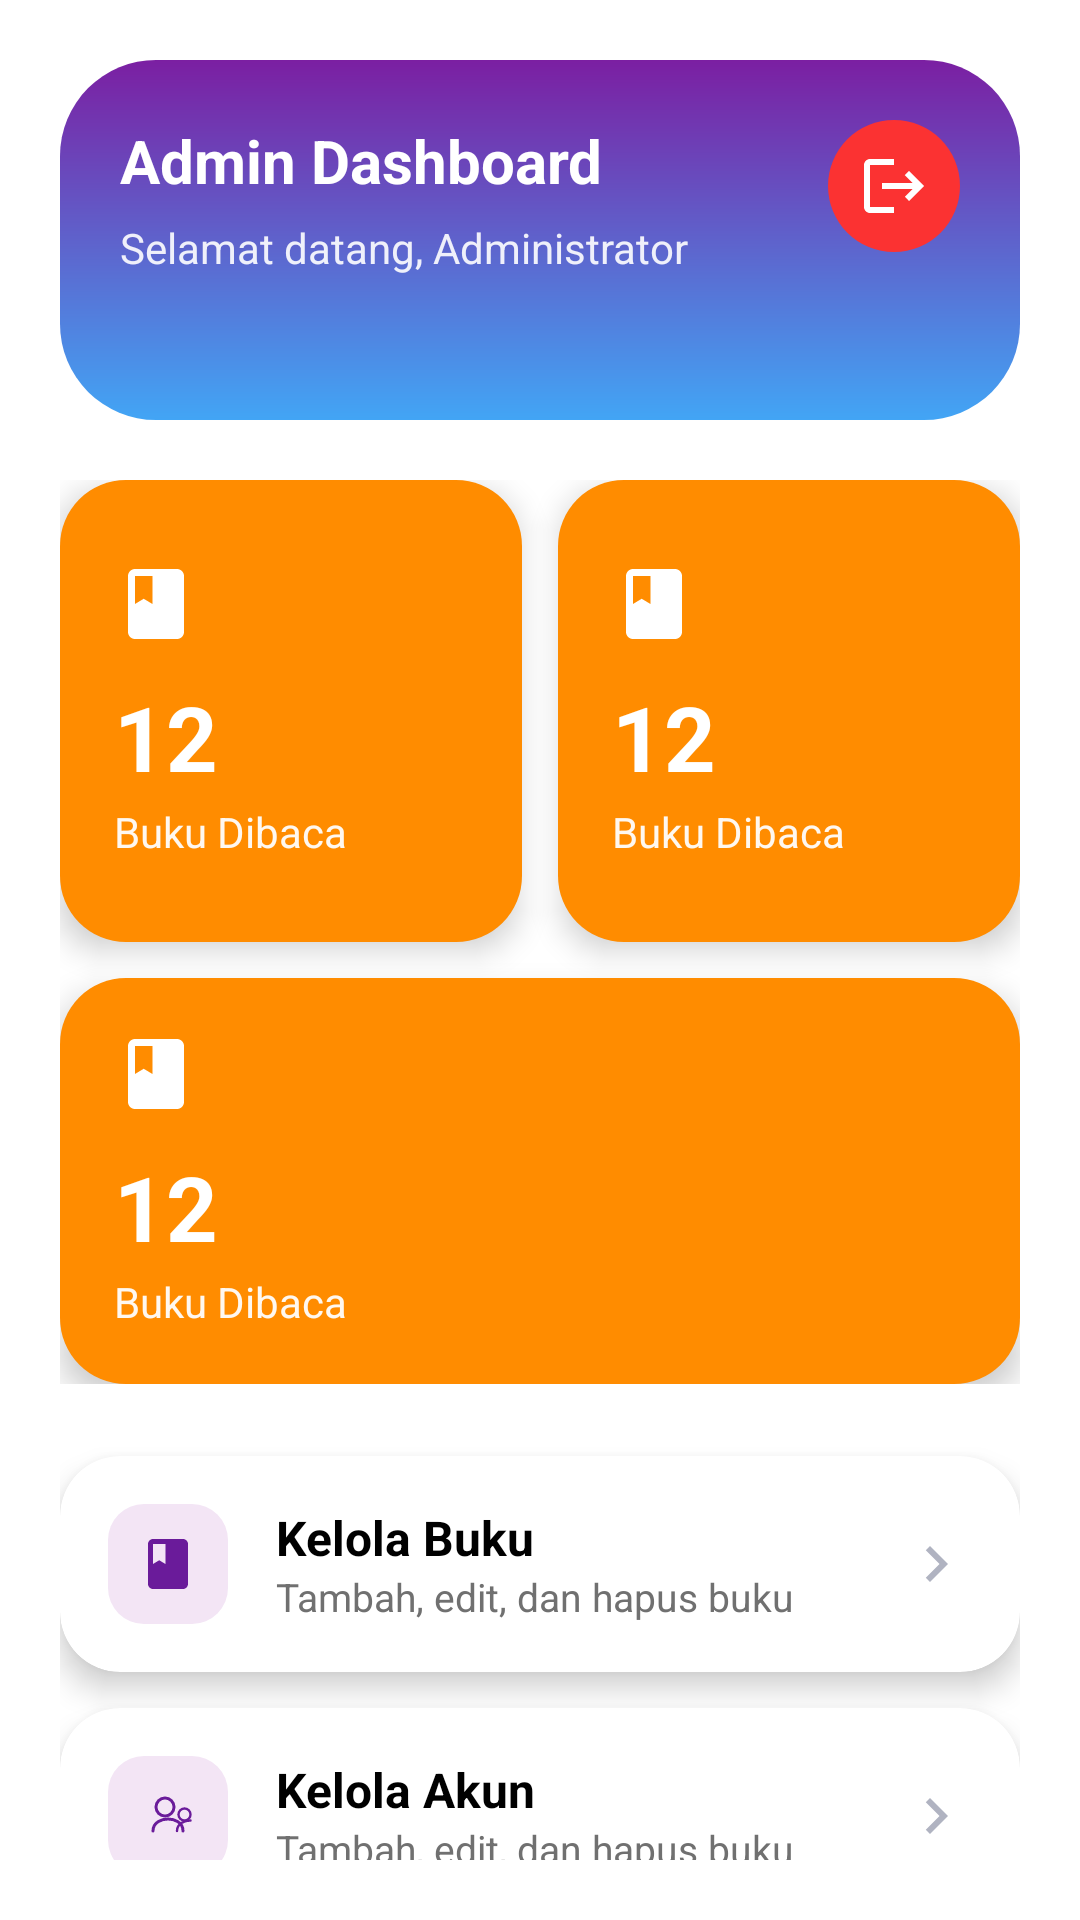

Screen size 1080x1920. Icon name, then its box in pixels as (x1, y1, x2, y2):
arrow right: (926, 1546, 948, 1582), (926, 1798, 948, 1834)
book: (128, 569, 184, 639), (626, 569, 682, 639), (128, 1039, 184, 1109), (108, 1504, 228, 1624)
users: (108, 1756, 228, 1860)
